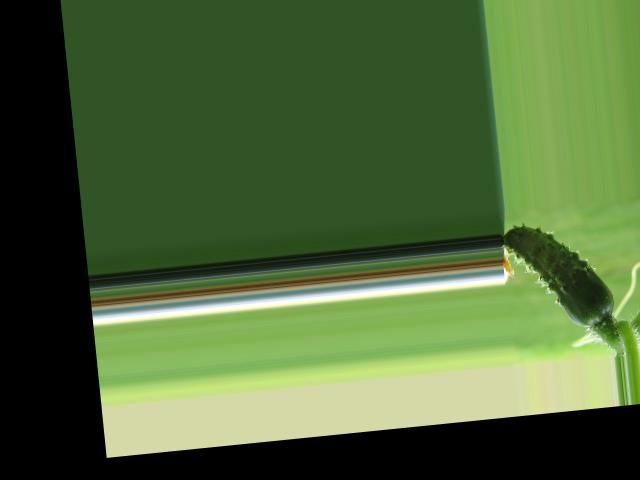cucumber: (502, 216, 618, 333)
